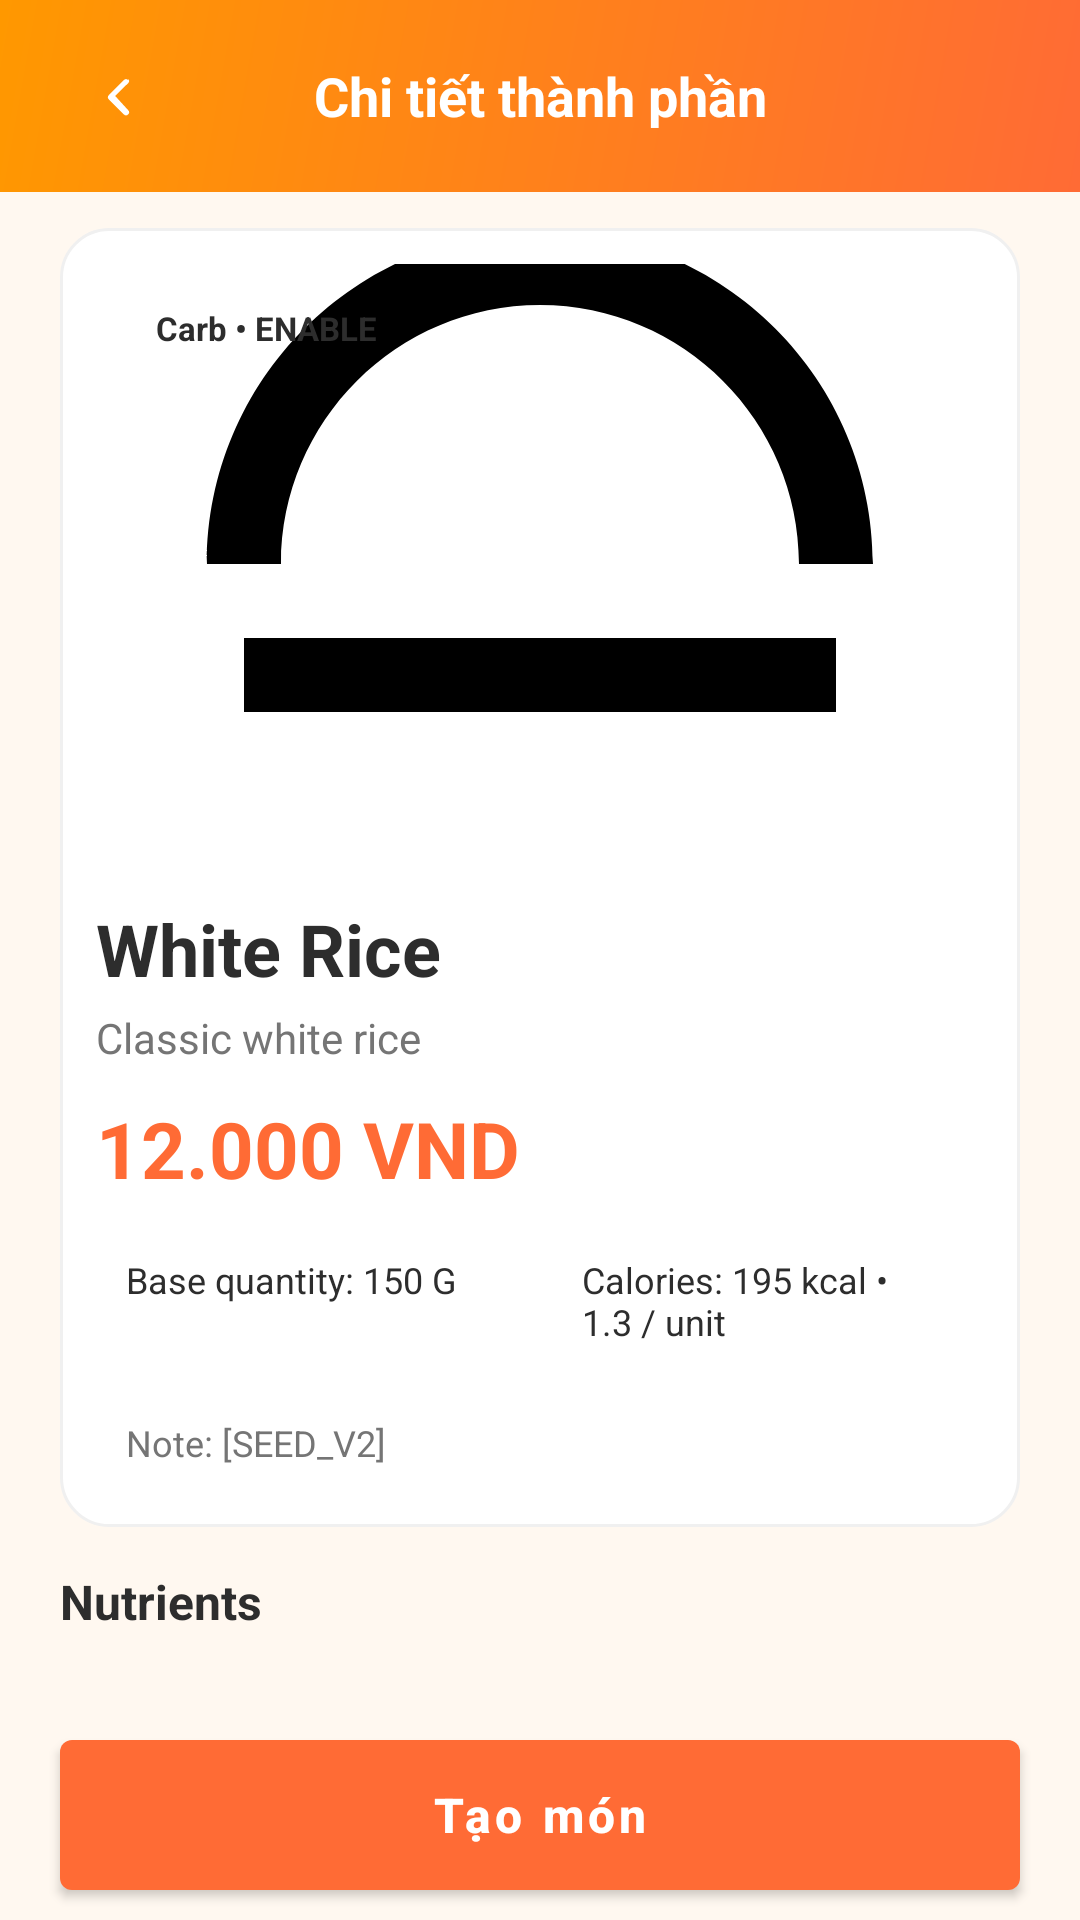

Icons on this 1080x1920 Android screen, each with the point to tap as [x,y]:
chevron left: [118,97]
